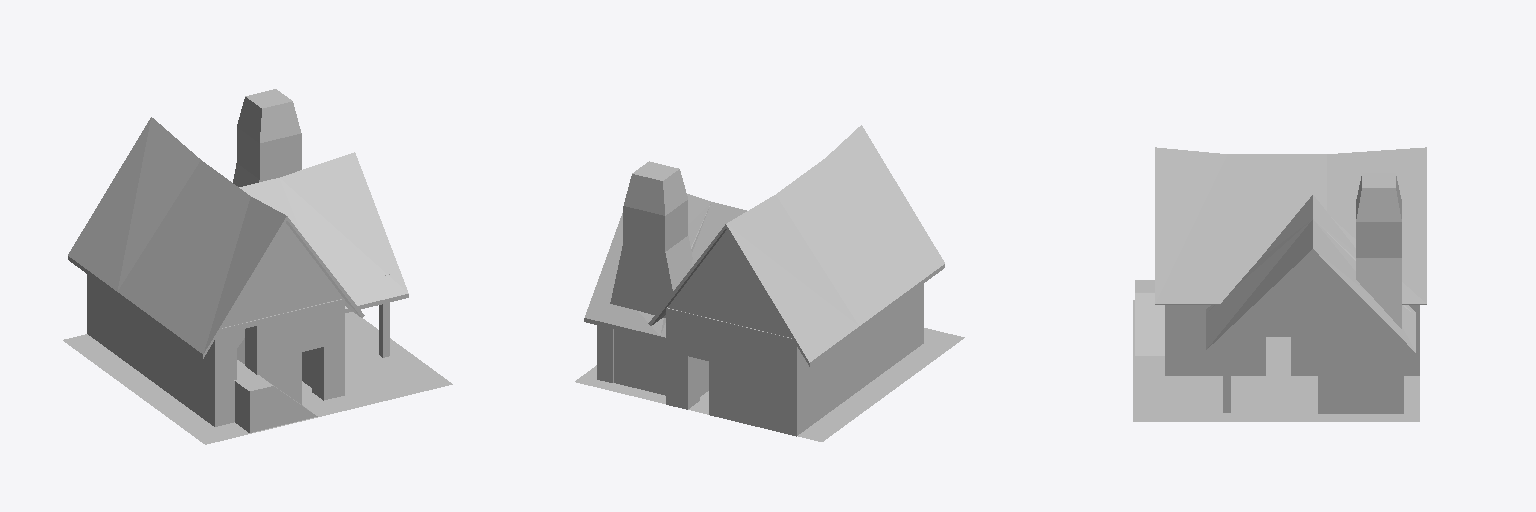
File: forgeColl.obj
3 views of the same model, side by side, from view 1: azimuth 30°, elevation 25°; view 2: azimuth 150°, elevation 25°; view 3: azimuth 270°, elevation 25° (orthographic).
Visible parts, largest first — view 1: Material__38; view 2: Material__38; view 3: Material__38.
Part boxes in pixels (x1,y1,x2,y2): Material__38: (63, 89, 452, 444); Material__38: (575, 125, 964, 441); Material__38: (1133, 147, 1426, 421).
Bounding box in the file's own units: 76 × 61.87 × 77.79.